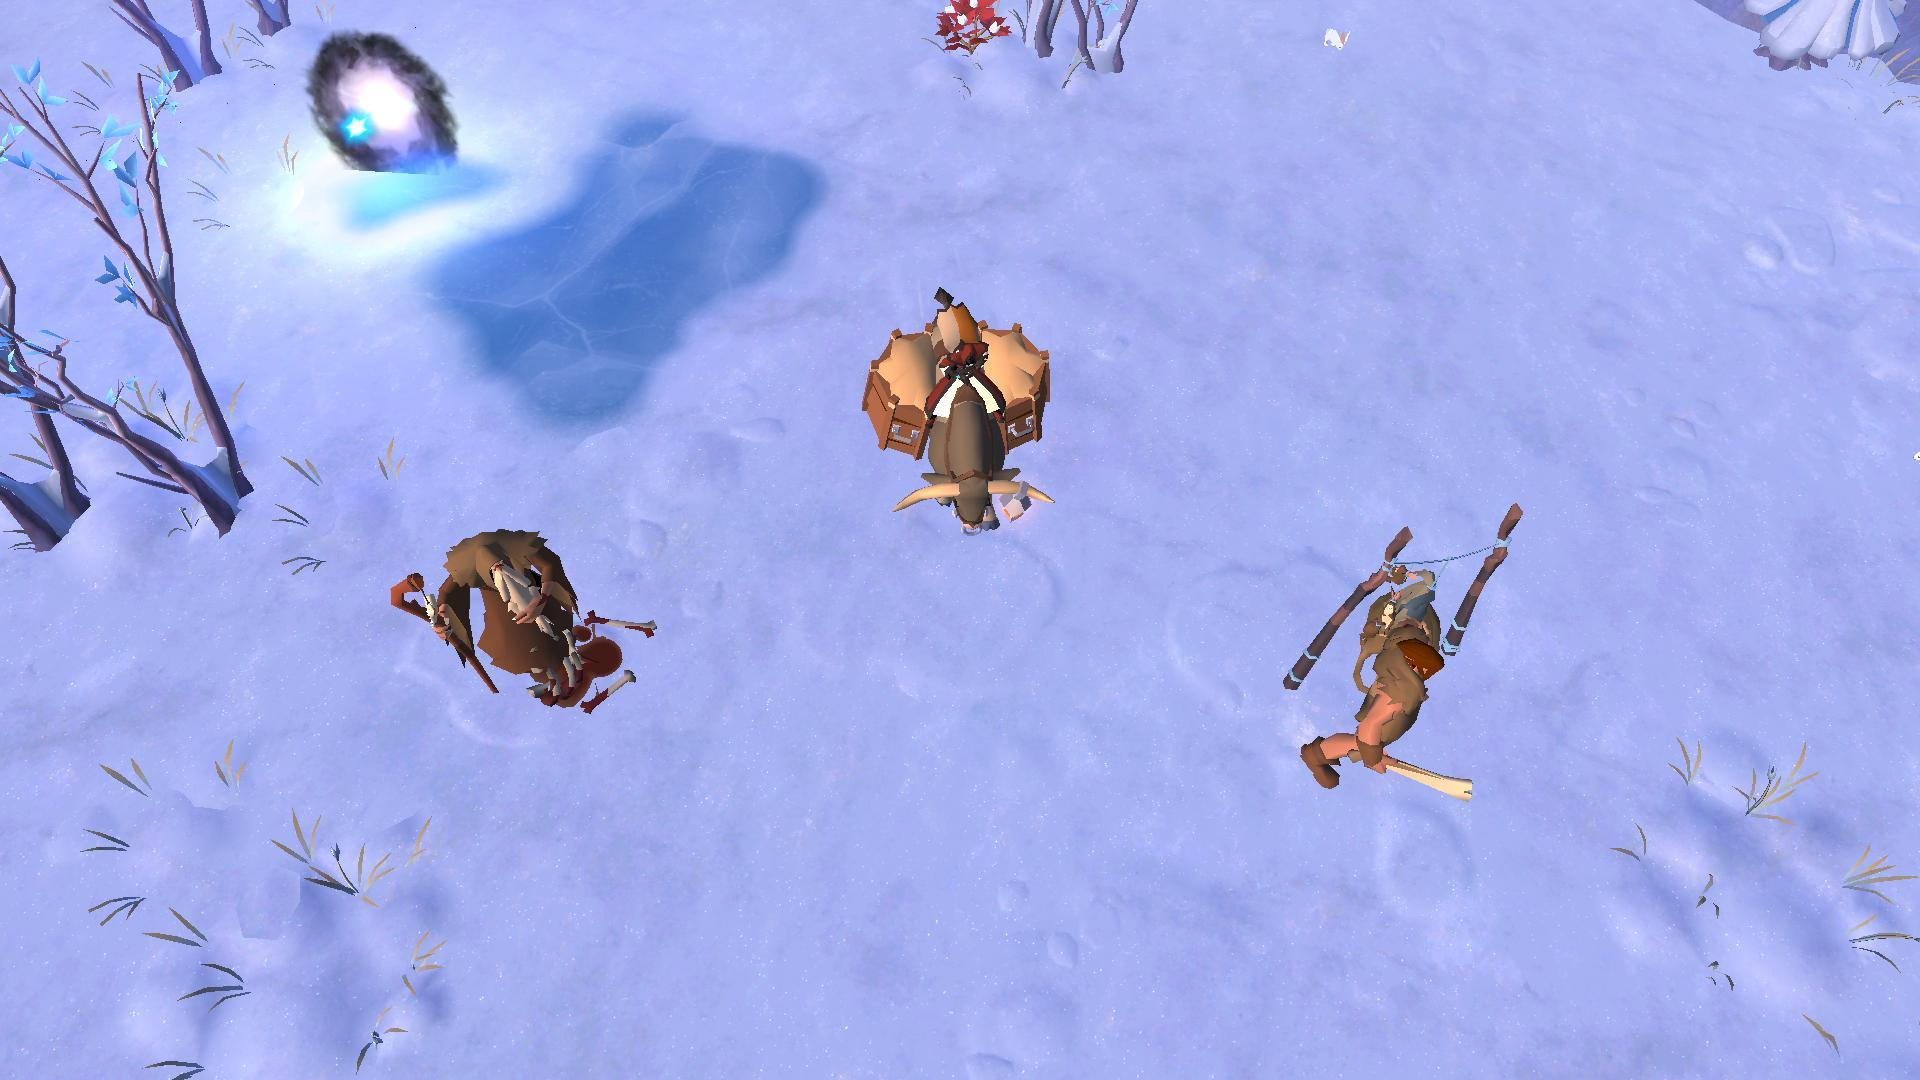enemy_factionKeeper: (397, 513, 613, 708), (1299, 618, 1482, 800)
fiber_t5: (934, 0, 1013, 51)
